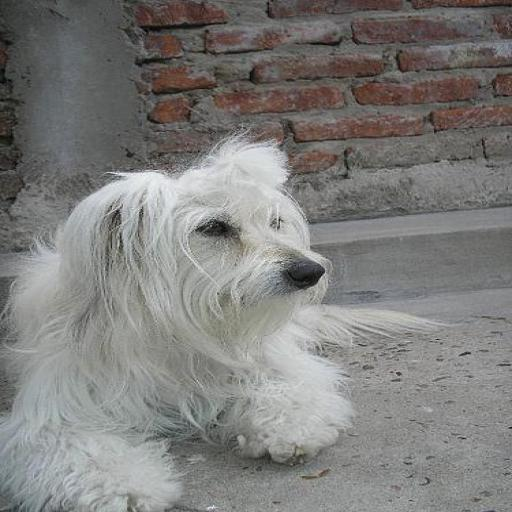dog_face: (88, 148, 335, 328)
